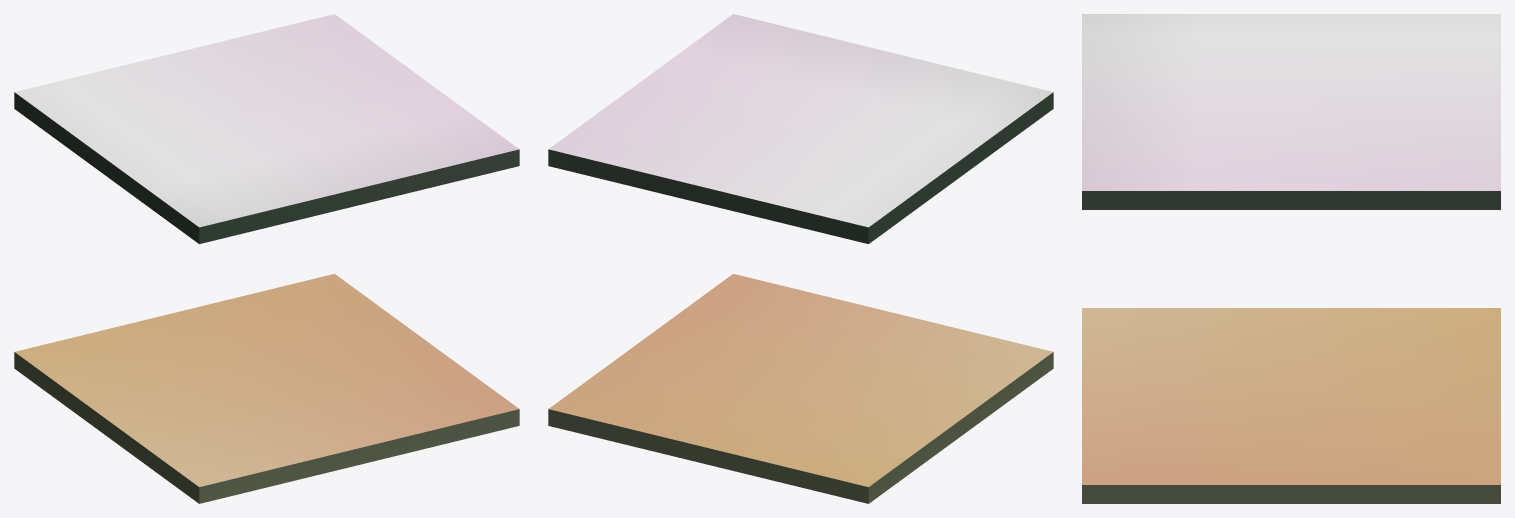
The model's file is R_NoWall.fbx.
3 views of the same model, side by side, from view 1: azimuth 30°, elevation 25°; view 2: azimuth 150°, elevation 25°; view 3: azimuth 270°, elevation 25° (orthographic). The views are drawn at different scales.
Visible parts, largest first — view 1: R_NoWall; view 2: R_NoWall; view 3: R_NoWall.
Part boxes in pixels (x1=…): R_NoWall: x1=14, y1=14, x2=519, y2=503; R_NoWall: x1=548, y1=14, x2=1053, y2=503; R_NoWall: x1=1082, y1=14, x2=1500, y2=503.
Bounding box in the file's own units: 4 × 4 × 3.3.
